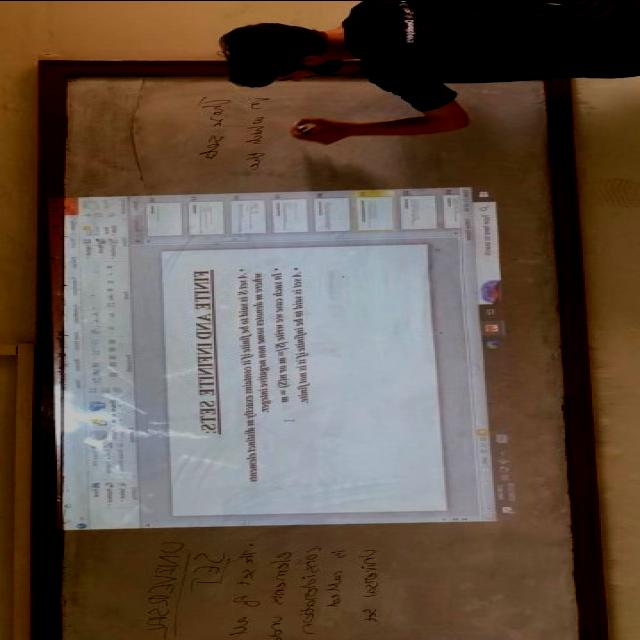Instructor: (186, 0, 609, 96)
Slide: (56, 186, 536, 531)
White-board: (38, 61, 594, 640)
